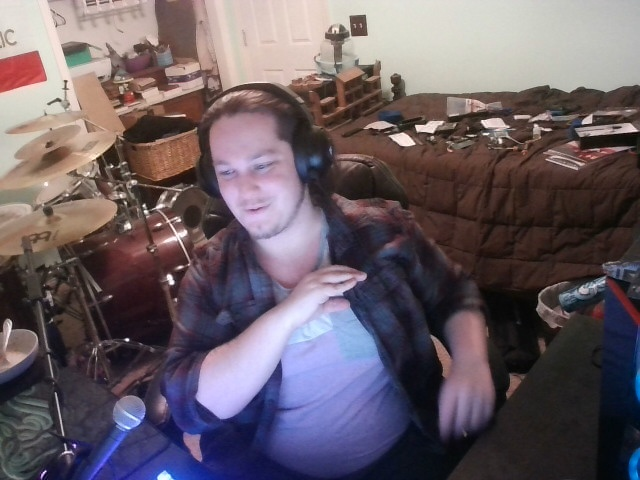police: (279, 260, 393, 342)
